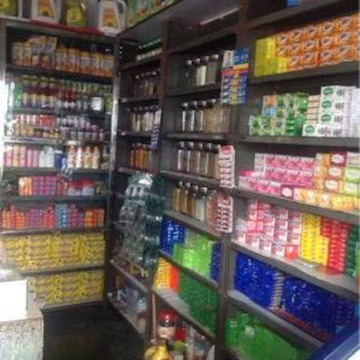other: (0, 0, 359, 359), (163, 17, 240, 73), (233, 188, 358, 222), (156, 155, 218, 199), (207, 107, 255, 154), (160, 80, 218, 118), (266, 64, 357, 86), (152, 117, 187, 152), (166, 210, 210, 231), (314, 274, 351, 295), (277, 260, 315, 280), (276, 320, 304, 341), (122, 61, 149, 70), (119, 126, 139, 138), (222, 235, 235, 253), (264, 309, 278, 325), (324, 139, 356, 146), (117, 165, 134, 178), (230, 296, 247, 307), (244, 136, 273, 142), (125, 98, 154, 103), (238, 28, 247, 39), (223, 258, 229, 274), (220, 277, 225, 293), (297, 139, 313, 144), (163, 61, 169, 74)
